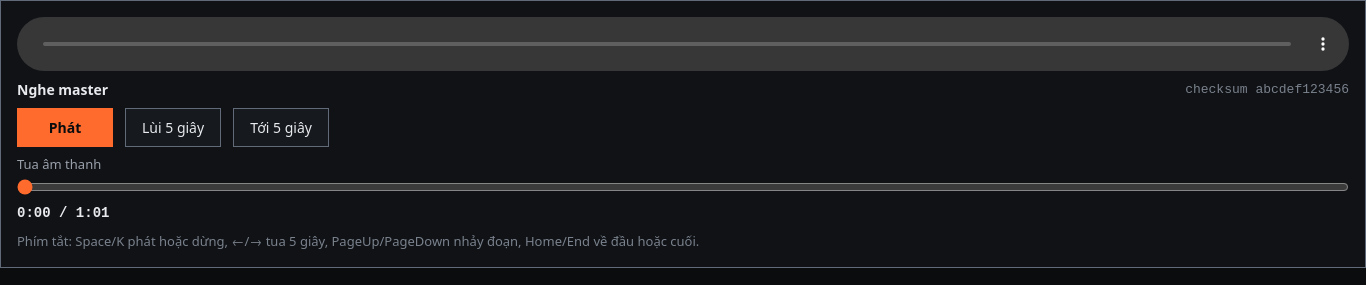
ArtifactPlayer (A05) › thanh tua đổi vị trí phát và cập nhật thời gian hiển thị
Set the slider labelled "Tua âm thanh" to "30" at coordinates (672, 186), box [17,178,1349,194]
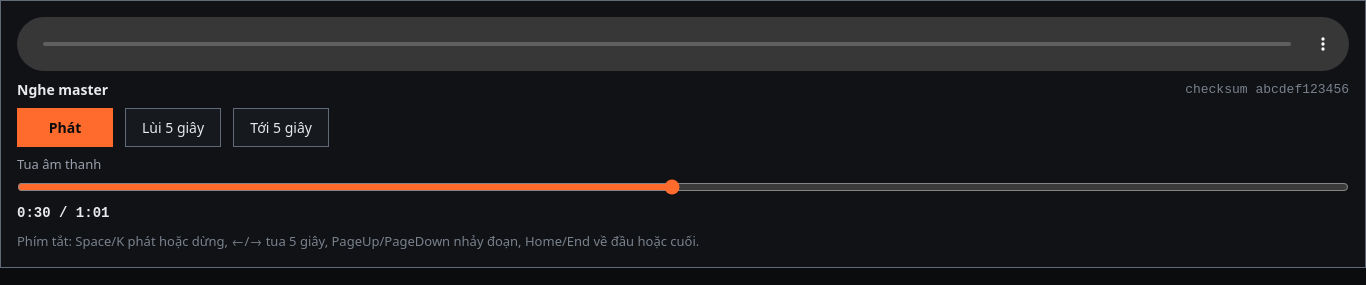
Expected: the text with test id "playback-duration" reads "1:01", [76,204,109,220]
Now the text with test id "playback-position" reads "0:30", box [17,204,51,220]
